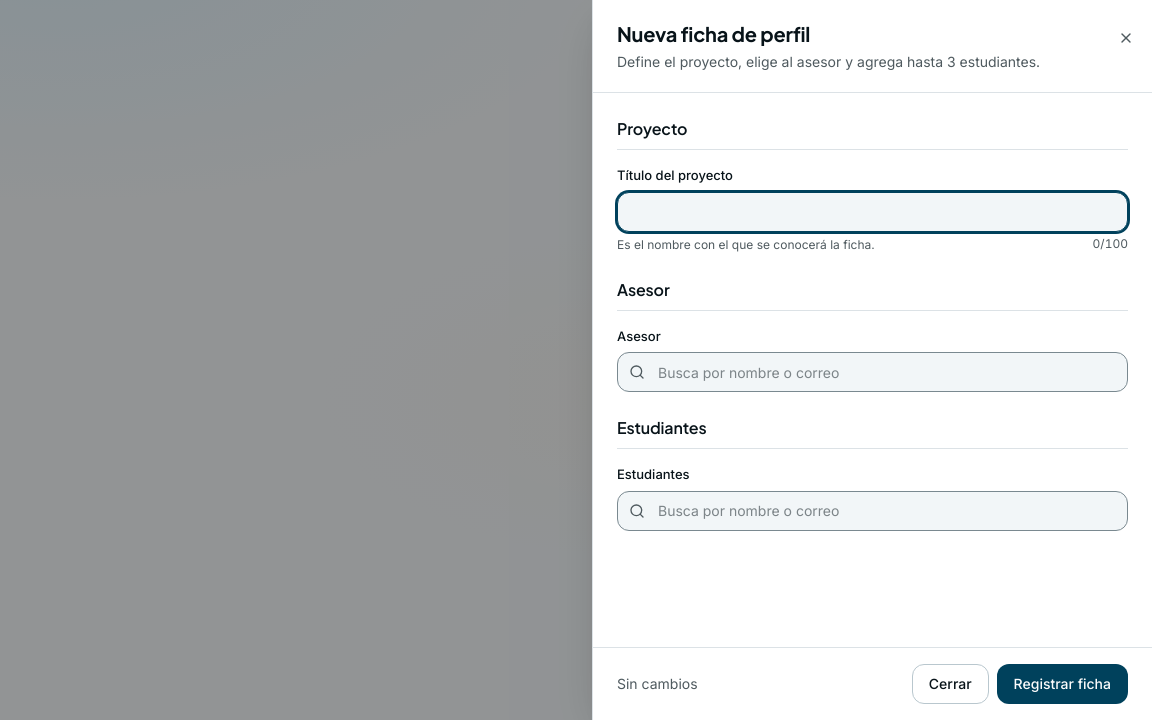
Test: RegistrarFichaPerfilPanel › un título duplicado se pinta bajo el campo además del único toast
This screenshot has width=1152, height=720.
Step 1. Type "Sistema nuevo" into the field labelled "Título del proyecto" → [872, 212], box [617,192,1128,232]
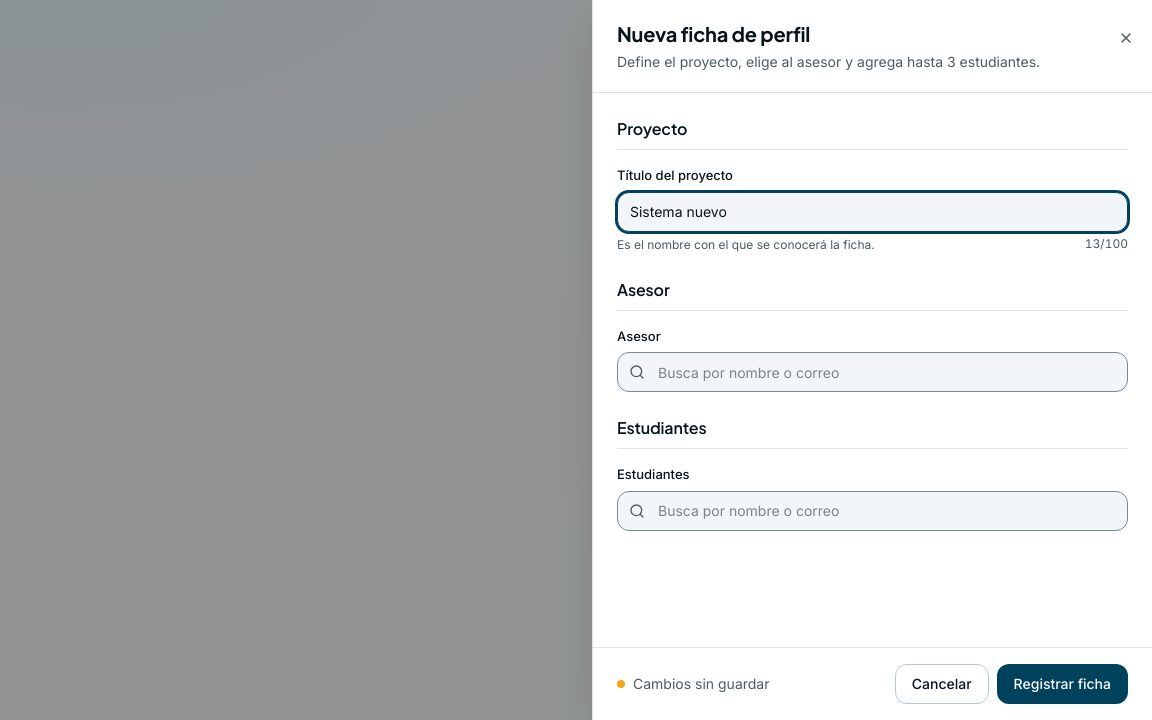
Step 2. Click the dropdown labelled "Asesor" → [872, 372], box [617,352,1128,392]
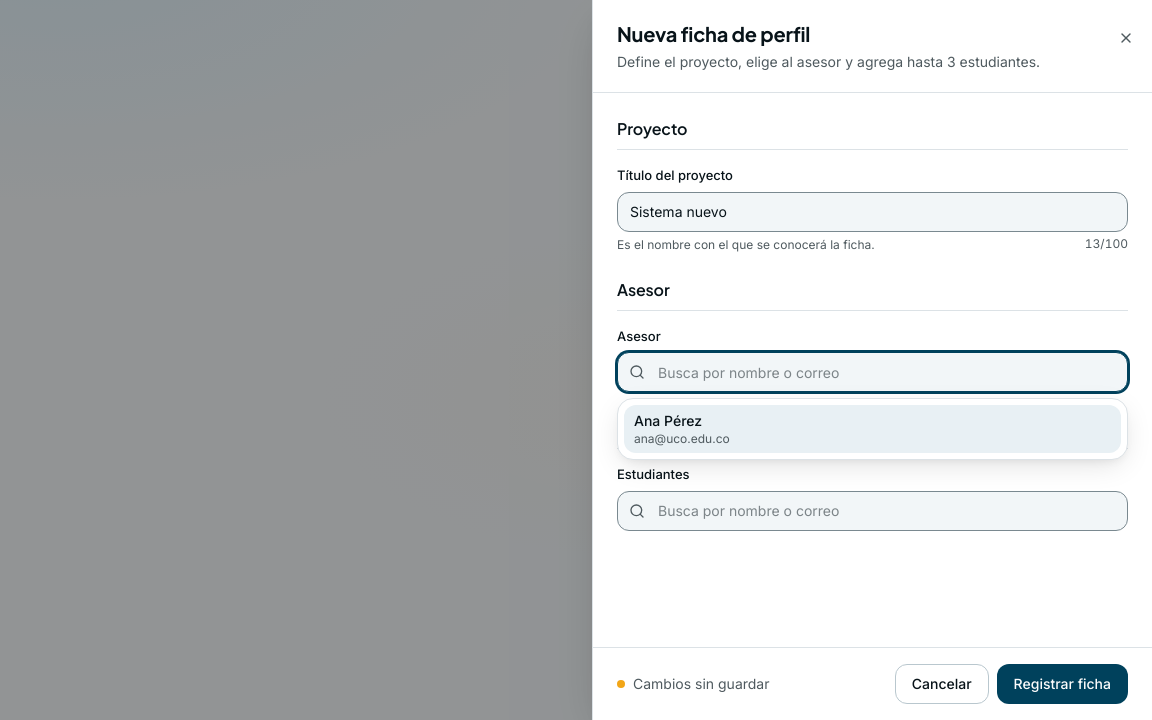
Step 3. Click the option "Ana Pérez ana@uco.edu.co" → [668, 420], box [624,405,1121,453]
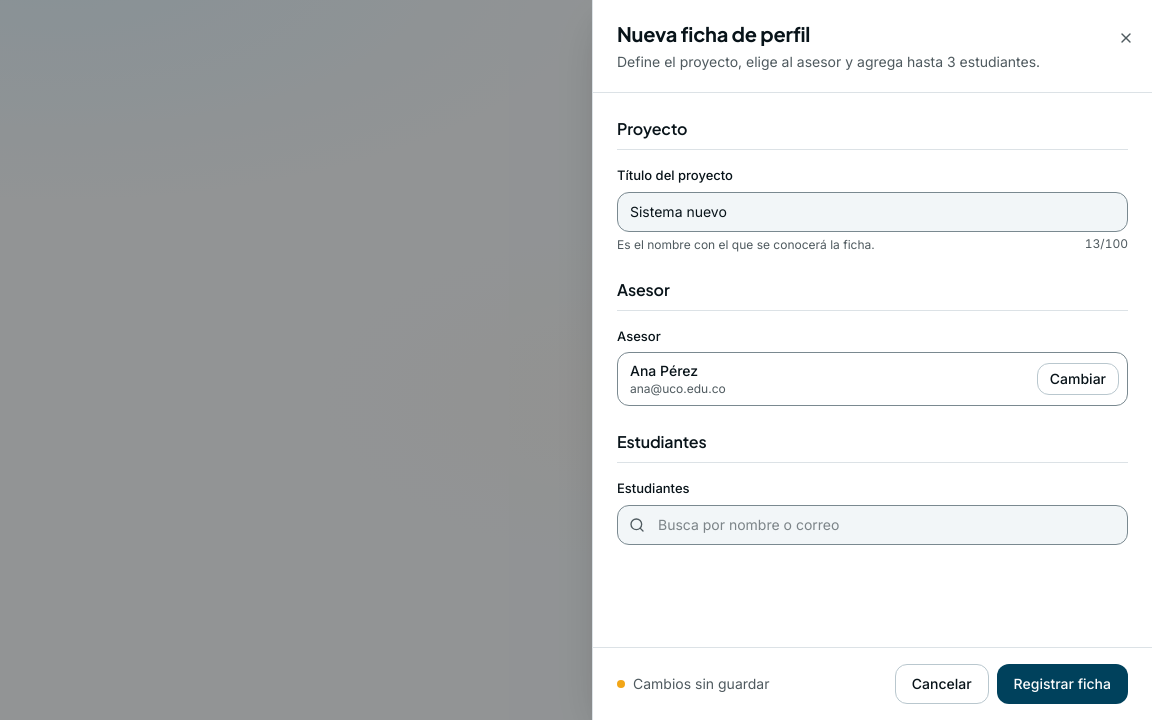
Step 4. Click the dropdown labelled "Estudiantes" → [872, 524], box [617,504,1128,544]
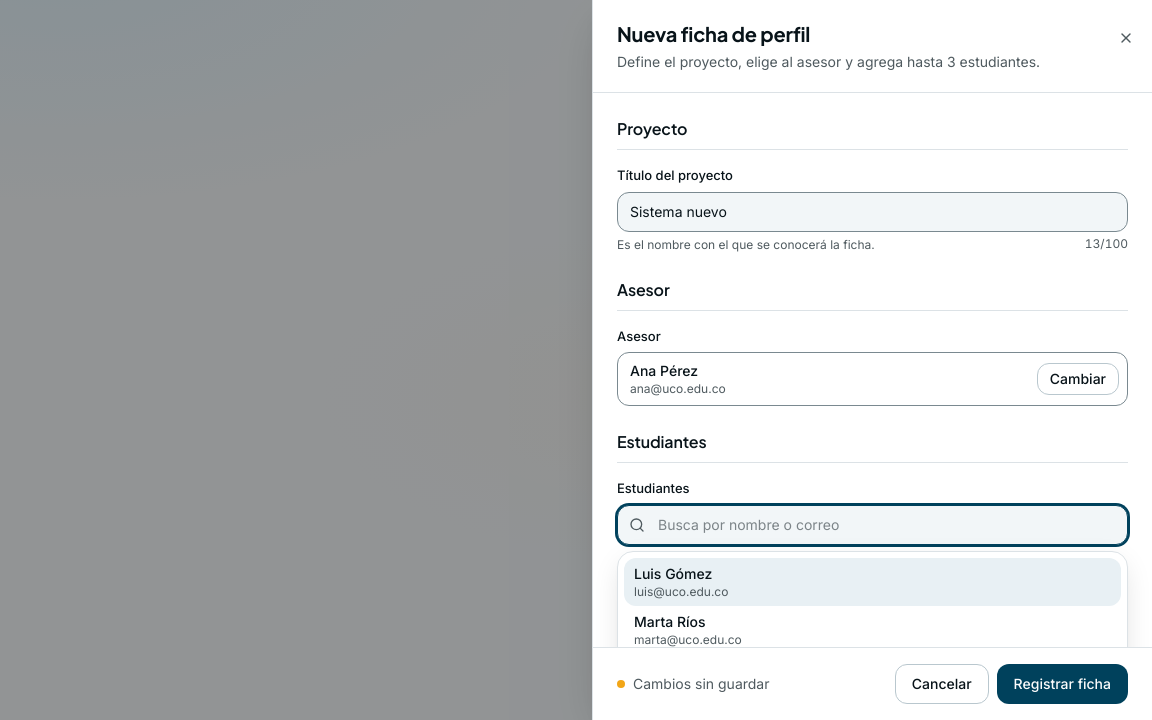
Step 5. Click the option "Luis Gómez luis@uco.edu.co" → [673, 573], box [624,558,1121,606]
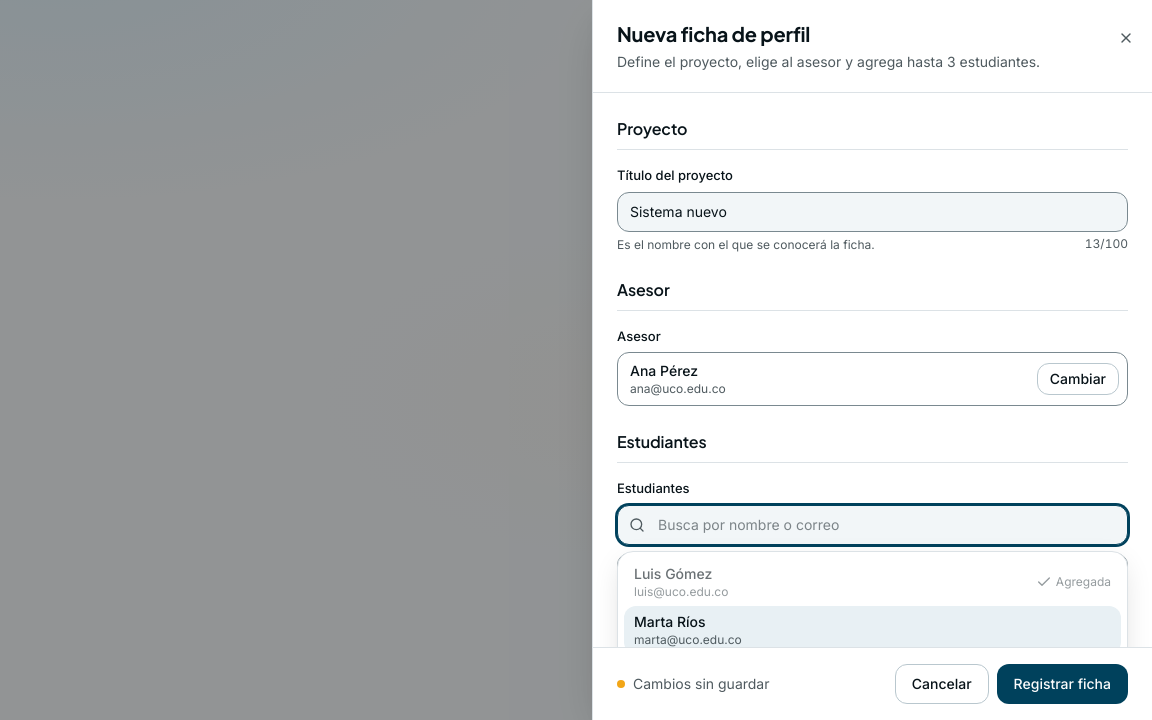
Step 6. Click the button "Registrar ficha" → [1062, 684], box [997,664,1128,704]
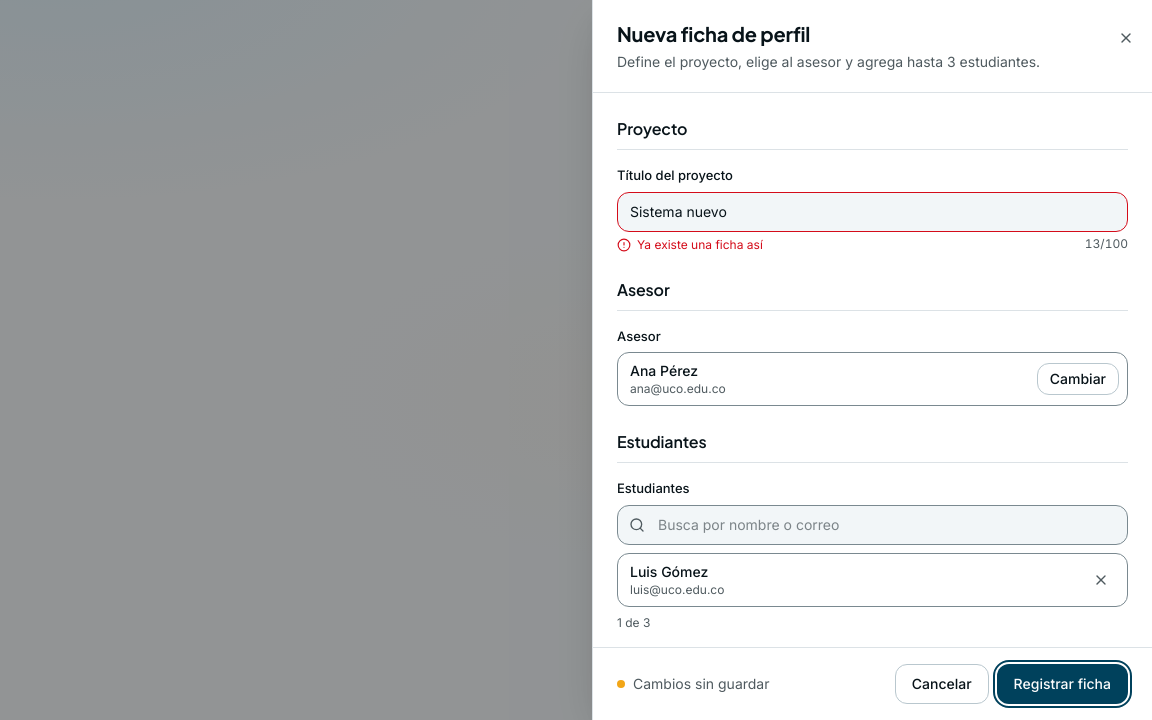
Expected: the message reads "Ya existe una ficha así", [637,236,763,252]
